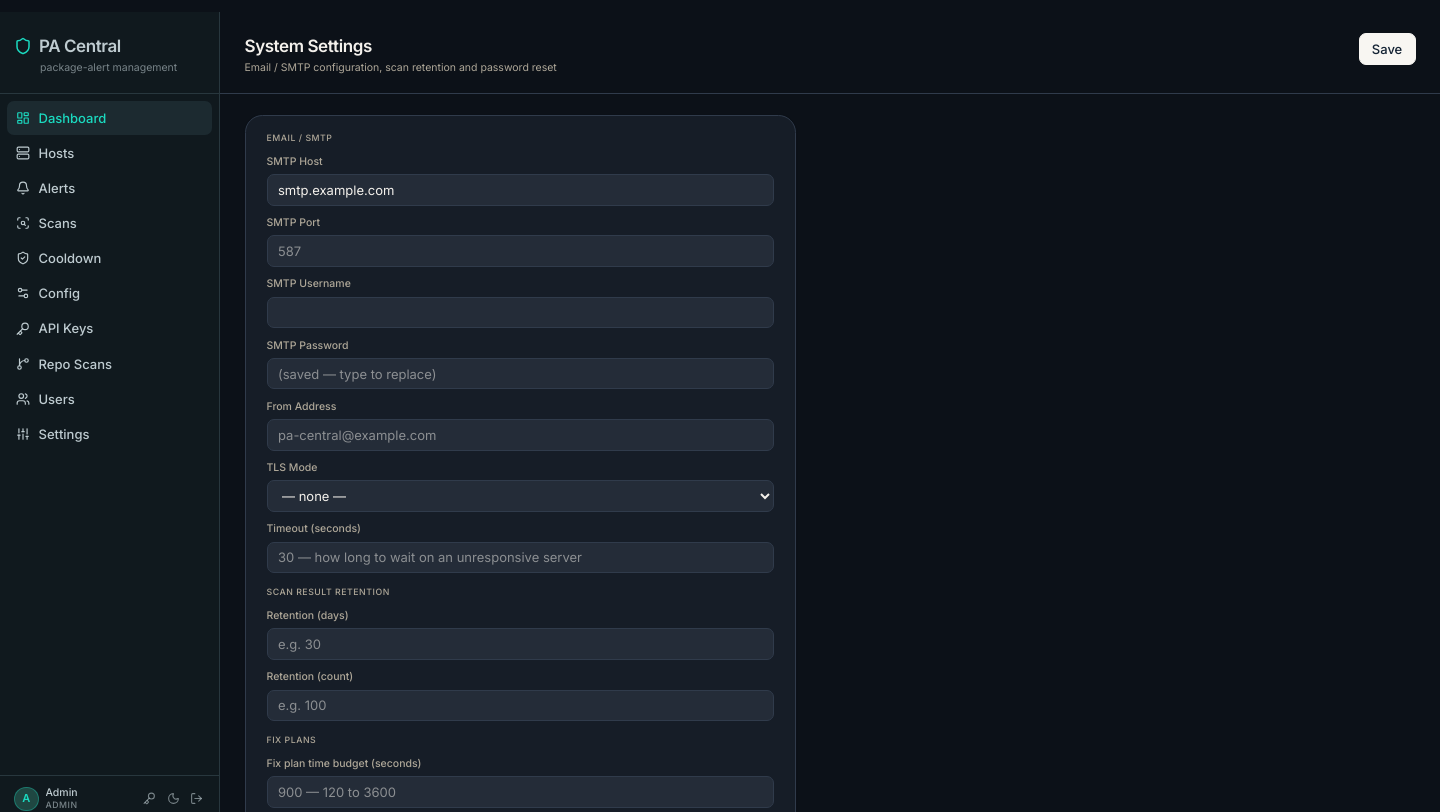
SystemSettings — password reset readiness comes from the backend › re-fetches readiness after a successful save, so fixing the underlying value updates the checkbox without a reload
This screenshot has width=1440, height=812.
Click the button "Save".
click(1387, 49)  # box [1358,33,1416,64]
(page scrolled)
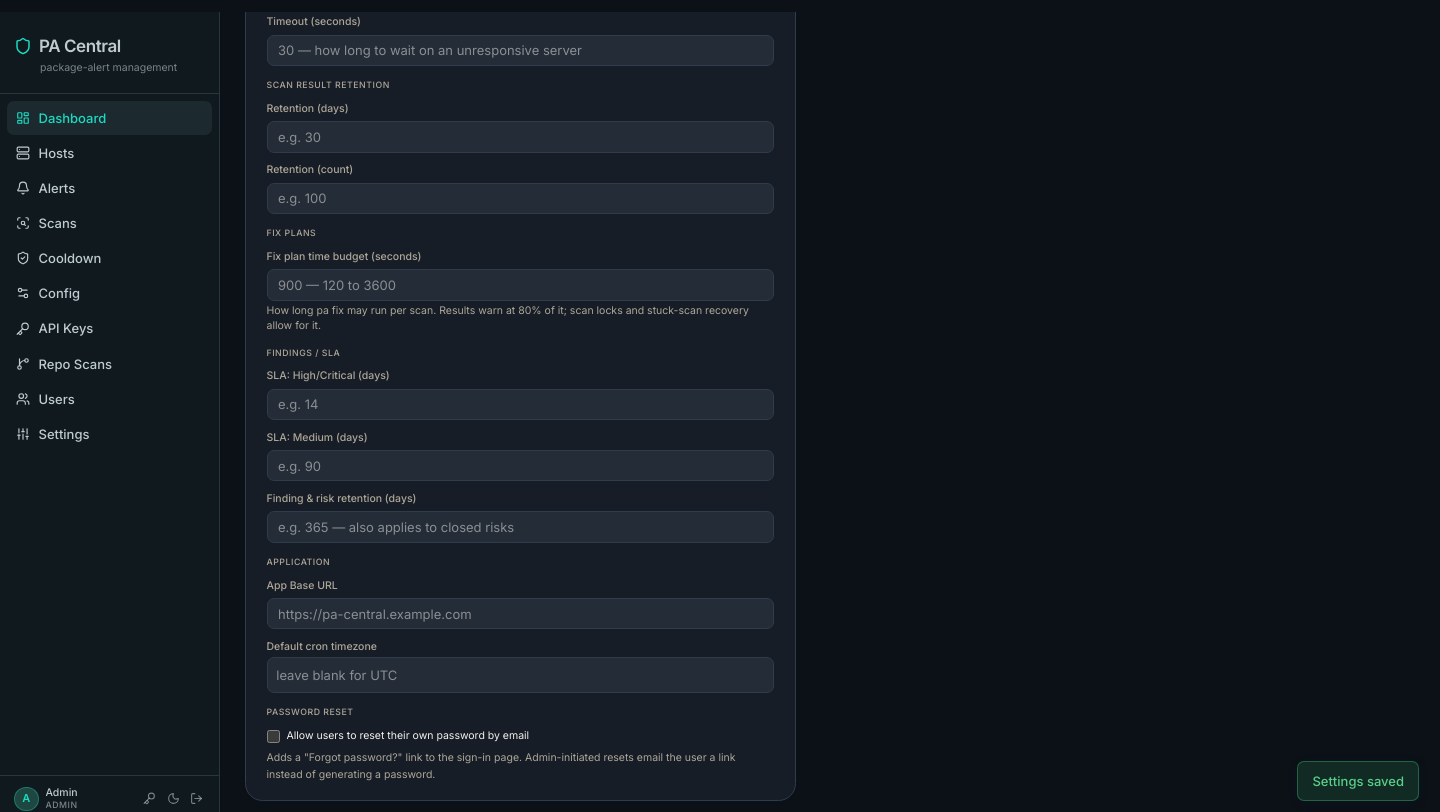
Now the checkbox labelled "Allow users to reset their own password by email" is enabled, box [266,730,280,743]
